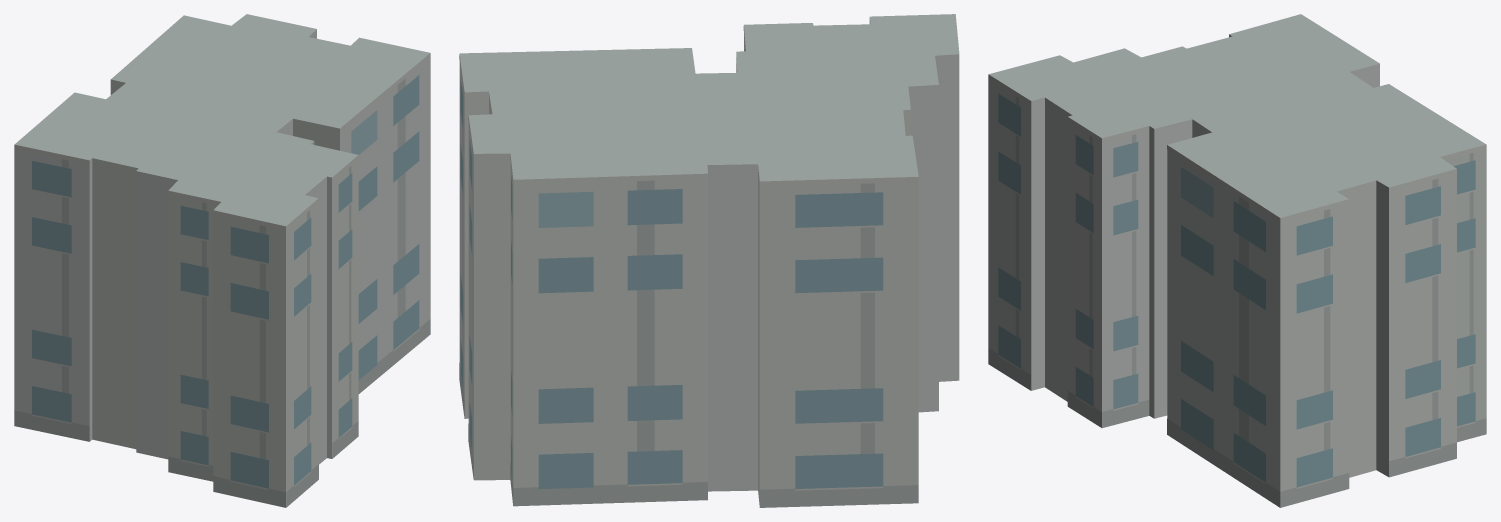
Rendered from survey-upis-32727883.glb.
3 views of the same model, side by side, from view 1: azimuth 30°, elevation 25°; view 2: azimuth 150°, elevation 25°; view 3: azimuth 270°, elevation 25° (orthographic). The views are drawn at different scales.
Visible parts, largest first — view 1: survey-upis-32727883.tmp; view 2: survey-upis-32727883.tmp; view 3: survey-upis-32727883.tmp.
Boxes of the visible parts, box(x1,y1,x2,y2) form: survey-upis-32727883.tmp: box(14, 14, 430, 507); survey-upis-32727883.tmp: box(459, 14, 959, 507); survey-upis-32727883.tmp: box(988, 14, 1486, 507).
Size of the model in its own units: 22.81 by 15.1 by 23.52.
